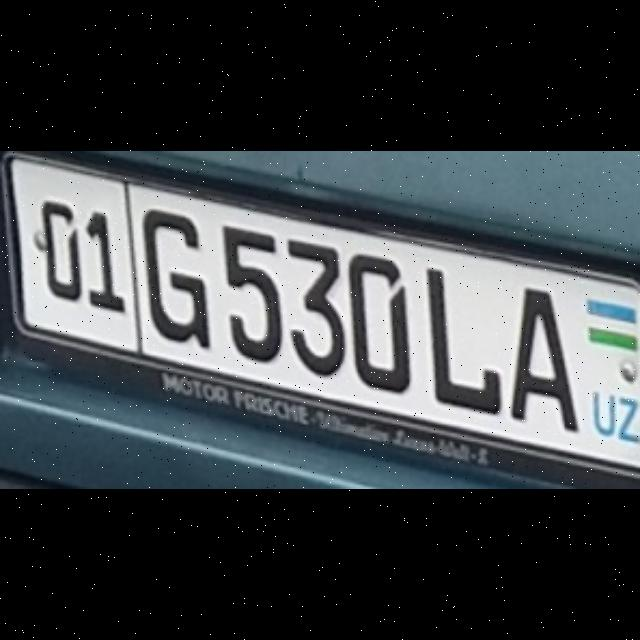0: (348, 247, 414, 398), (34, 188, 84, 310)
1: (86, 190, 130, 330)
3: (289, 226, 347, 388)
5: (220, 192, 286, 376)
A: (511, 280, 584, 448)
G: (136, 190, 216, 362)
L: (420, 261, 506, 423)
